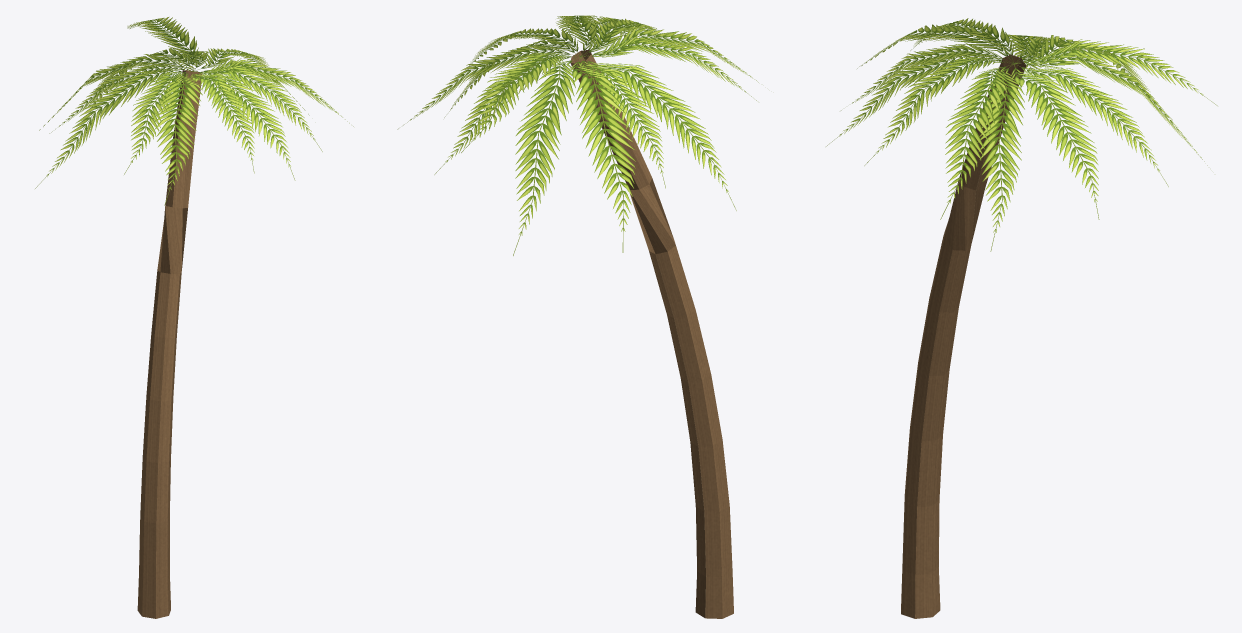
Rendered from palm2_b.glb.
The picture shows the model from 3 angles, left to right: view 1: azimuth 30°, elevation 25°; view 2: azimuth 150°, elevation 25°; view 3: azimuth 270°, elevation 25°; orthographic projection. The views are drawn at different scales.
Parts seen in each view (by area): view 1: palm2_b; view 2: palm2_b; view 3: palm2_b.
Part boxes in pixels (x1,y1,x2,y2): palm2_b: [35, 17, 353, 618]; palm2_b: [397, 15, 758, 618]; palm2_b: [826, 18, 1217, 618].
Bounding box in the file's own units: 2.56 × 4.23 × 2.58.
Materials: 2 (2 with a texture image).
